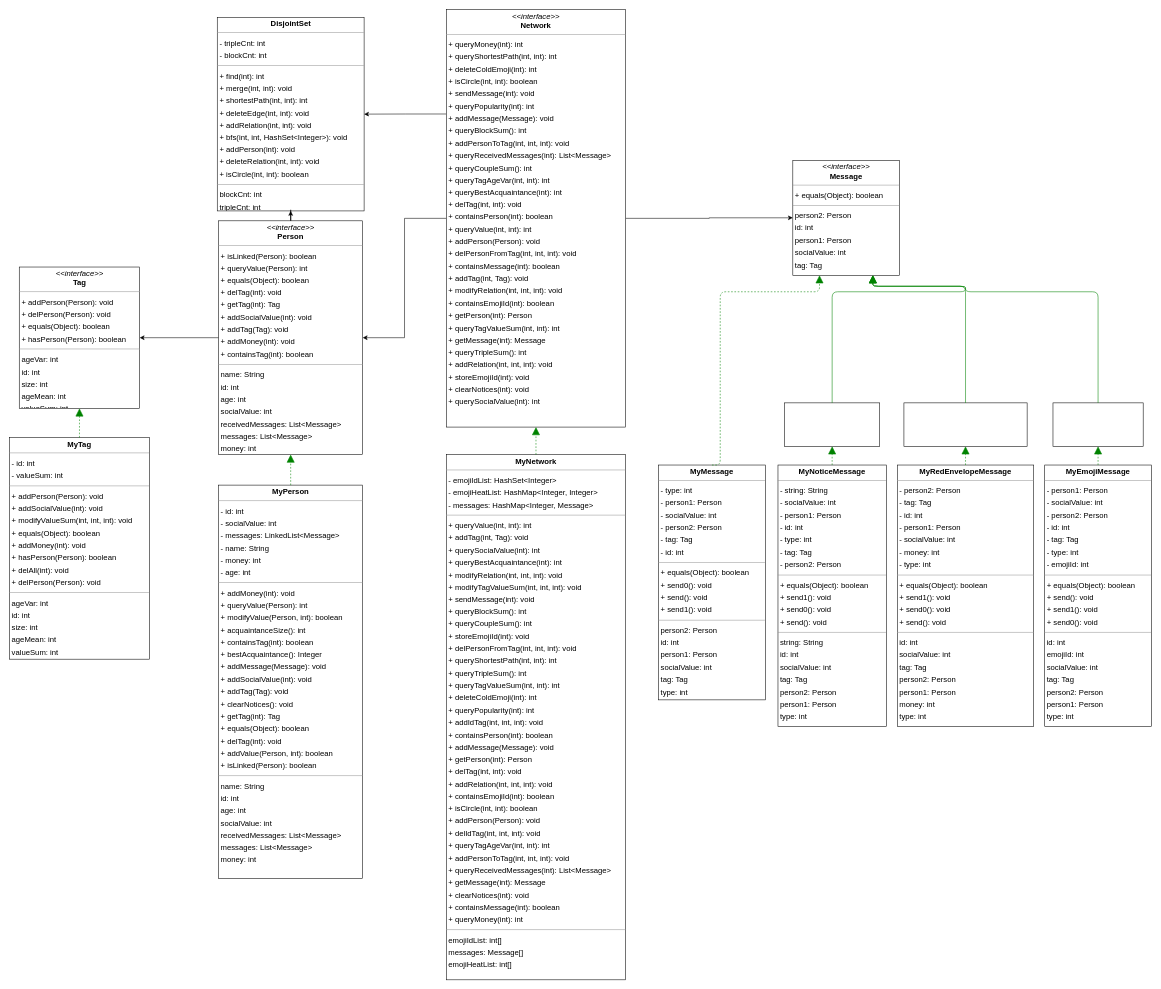
Image size: 1161x989. Some labels were removed from this diagram. The centre of each missing label's shape, as x and y in pixels:
<<interface>> EmojiMessage emojiId: int: point 1097,424
<<interface>> NoticeMessage string: String: point 832,424
<<interface>> RedEnvelopeMessage money: int: point 965,424
